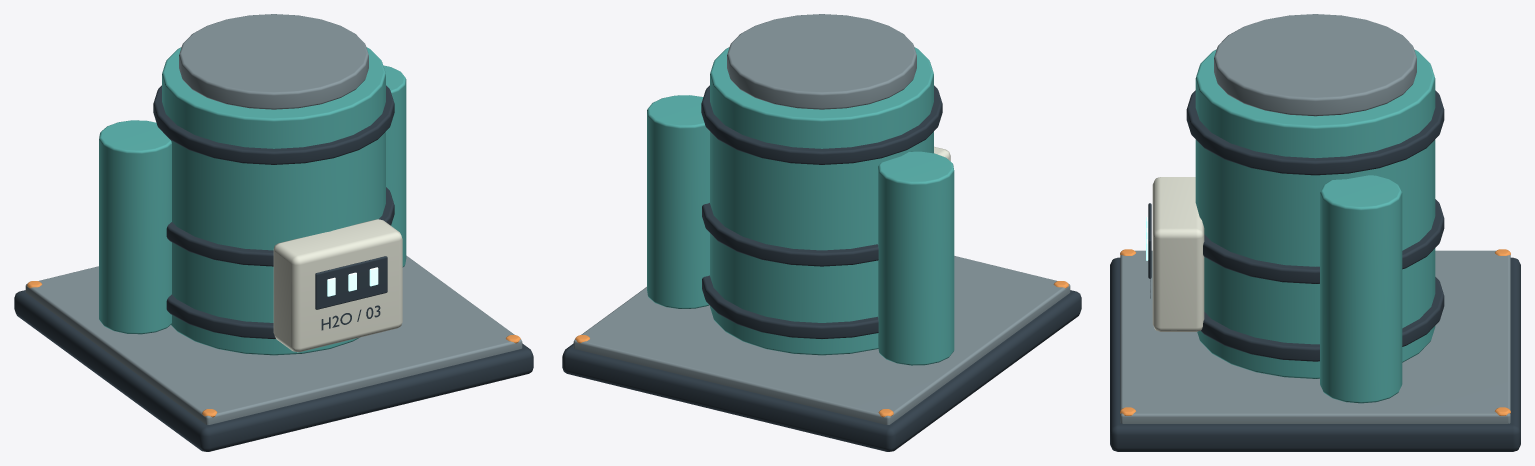
The model's file is water.glb.
3 views of the same model, side by side, from view 1: azimuth 30°, elevation 25°; view 2: azimuth 150°, elevation 25°; view 3: azimuth 270°, elevation 25° (orthographic). The views are drawn at different scales.
Visible parts, largest first — view 1: Main pressure tank, Inset apron, Foundation graphite, Service cabinet; view 2: Main pressure tank, Inset apron, Foundation graphite; view 3: Main pressure tank, Inset apron, Foundation graphite, Service cabinet, Foundation anchor.
Part boxes in pixels (x1=…): Main pressure tank: x1=99, y1=47, x2=406, y2=355; Inset apron: x1=25, y1=14, x2=522, y2=424; Foundation graphite: x1=14, y1=85, x2=533, y2=451; Service cabinet: x1=273, y1=219, x2=402, y2=352; Main pressure tank: x1=647, y1=47, x2=954, y2=365; Inset apron: x1=573, y1=14, x2=1070, y2=424; Foundation graphite: x1=562, y1=85, x2=1081, y2=451; Main pressure tank: x1=1195, y1=49, x2=1435, y2=403; Inset apron: x1=1120, y1=14, x2=1510, y2=423; Foundation graphite: x1=1110, y1=90, x2=1520, y2=451; Service cabinet: x1=1152, y1=177, x2=1204, y2=331; Foundation anchor: x1=1120, y1=249, x2=1510, y2=415.
Bounding box in the file's own units: 3.6 × 3.02 × 3.6.
